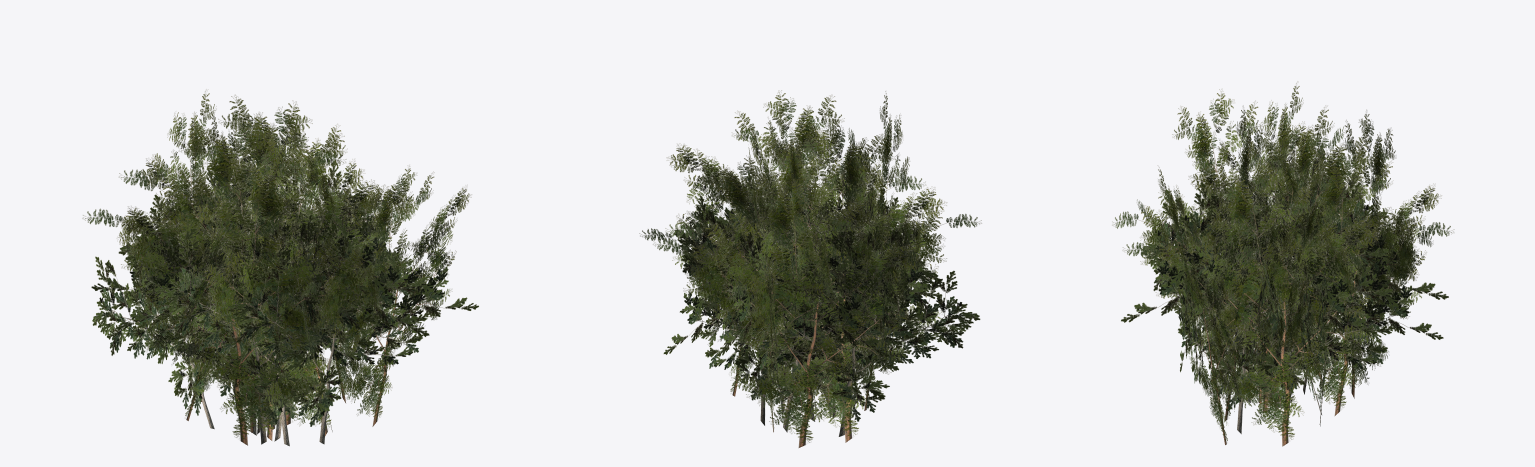
Rendered from tall_bush.glb.
The picture shows the model from 3 angles, left to right: view 1: azimuth 30°, elevation 25°; view 2: azimuth 150°, elevation 25°; view 3: azimuth 270°, elevation 25°; orthographic projection. The views are drawn at different scales.
Parts seen in each view (by area): view 1: ST_TallBush; view 2: ST_TallBush; view 3: ST_TallBush.
Boxes of the visible parts, <box> form: ST_TallBush: <box>82,89,478,446</box>; ST_TallBush: <box>639,90,981,447</box>; ST_TallBush: <box>1112,81,1454,446</box>.
Size of the model in its own units: 15.93 by 10.83 by 13.68.
Materials: 2 (2 with a texture image).
